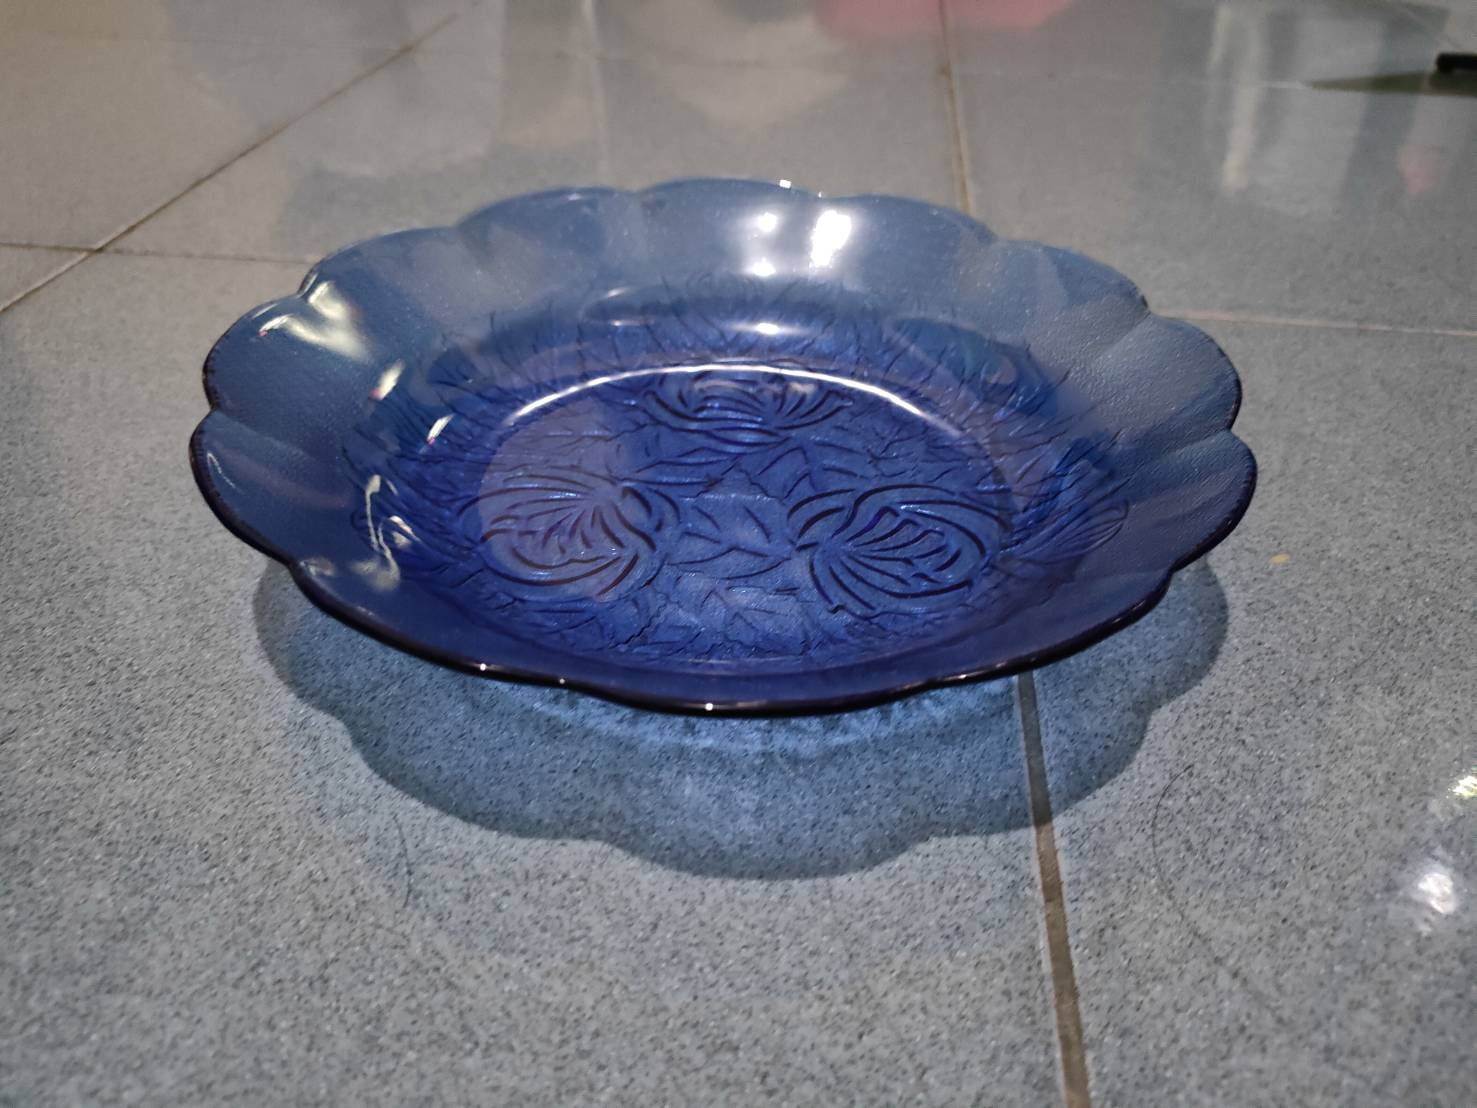piring: (189, 170, 1259, 720)
